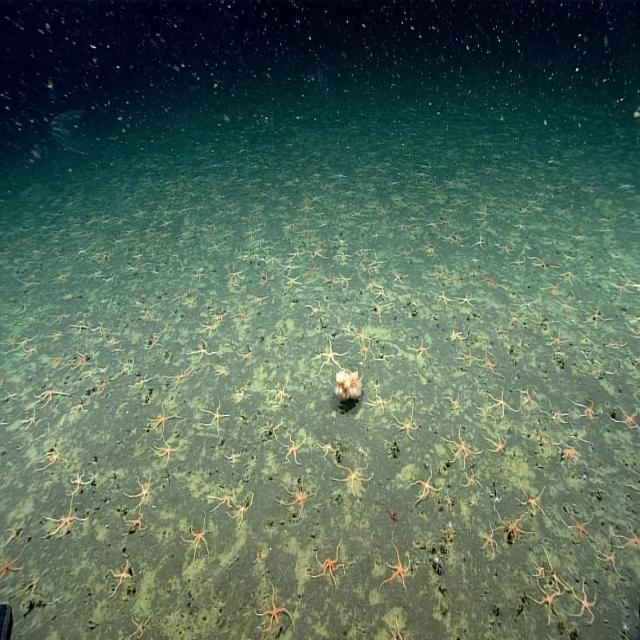brittle-stars: (254, 589, 296, 637), (306, 543, 352, 586), (41, 500, 88, 538), (378, 553, 414, 595), (274, 486, 310, 524), (332, 466, 368, 504), (200, 392, 228, 440), (103, 557, 134, 597), (566, 582, 596, 622), (442, 434, 479, 466), (314, 335, 346, 372), (406, 476, 440, 510), (128, 466, 155, 507), (509, 491, 548, 518), (186, 518, 212, 558), (138, 405, 172, 434), (531, 581, 559, 616), (560, 511, 591, 542), (612, 408, 640, 441), (390, 415, 425, 440), (281, 434, 305, 470), (230, 498, 256, 530), (366, 382, 392, 414), (493, 516, 526, 540), (274, 382, 304, 408), (0, 556, 25, 586), (615, 524, 640, 554), (474, 531, 498, 561), (547, 559, 566, 595), (595, 544, 621, 570), (62, 472, 90, 495), (164, 365, 192, 388), (154, 441, 176, 469), (37, 378, 61, 403), (118, 515, 144, 538), (406, 338, 432, 361), (477, 354, 499, 381), (213, 487, 234, 515), (578, 397, 602, 421), (548, 399, 572, 423), (490, 434, 510, 461), (459, 470, 483, 492), (580, 306, 607, 324), (458, 348, 479, 370), (440, 323, 463, 343), (128, 617, 148, 640), (4, 514, 23, 538), (0, 383, 21, 404), (80, 358, 102, 378), (386, 613, 402, 640), (478, 271, 498, 292), (67, 397, 86, 419), (493, 391, 512, 413), (300, 304, 324, 321), (518, 382, 536, 404), (557, 266, 575, 288), (199, 318, 218, 338), (16, 316, 39, 332), (534, 249, 550, 272), (23, 575, 43, 593), (513, 294, 531, 314), (315, 442, 336, 459), (16, 277, 41, 291), (41, 450, 61, 467), (332, 246, 349, 266), (194, 341, 213, 358), (532, 559, 546, 582), (563, 444, 579, 464), (363, 341, 378, 362), (90, 318, 107, 336), (433, 290, 450, 308), (350, 331, 369, 347), (226, 271, 246, 286), (52, 304, 66, 325), (606, 281, 630, 293), (135, 371, 149, 391), (366, 304, 386, 318), (448, 392, 463, 410), (421, 246, 440, 260), (542, 278, 566, 289), (512, 259, 534, 271), (394, 247, 414, 260), (25, 342, 41, 358), (498, 244, 513, 261), (112, 345, 126, 363), (326, 274, 338, 295), (474, 234, 488, 252), (47, 595, 63, 610), (240, 351, 257, 365), (392, 268, 406, 285), (457, 295, 476, 307), (281, 278, 300, 290), (54, 270, 73, 282), (23, 415, 38, 430), (231, 306, 246, 321), (307, 248, 323, 262), (1, 331, 18, 344), (207, 242, 225, 254), (368, 254, 383, 268), (80, 315, 91, 334), (554, 299, 573, 310), (18, 334, 30, 351), (424, 268, 441, 280), (515, 338, 530, 351), (479, 405, 491, 421), (548, 334, 564, 346), (210, 308, 226, 320), (260, 254, 276, 266), (289, 246, 305, 258), (376, 283, 386, 302), (507, 316, 522, 328), (139, 308, 154, 320), (364, 279, 376, 294), (149, 334, 159, 351), (444, 491, 456, 505), (340, 274, 352, 288), (100, 278, 116, 288), (120, 361, 134, 372), (263, 426, 278, 436), (167, 294, 182, 304), (305, 265, 320, 275), (251, 295, 263, 307), (103, 331, 113, 345), (96, 383, 108, 394), (184, 299, 196, 308), (217, 369, 230, 377), (230, 451, 237, 465), (52, 335, 64, 342), (287, 259, 296, 268), (238, 389, 246, 398), (0, 418, 6, 428), (471, 257, 480, 263)
